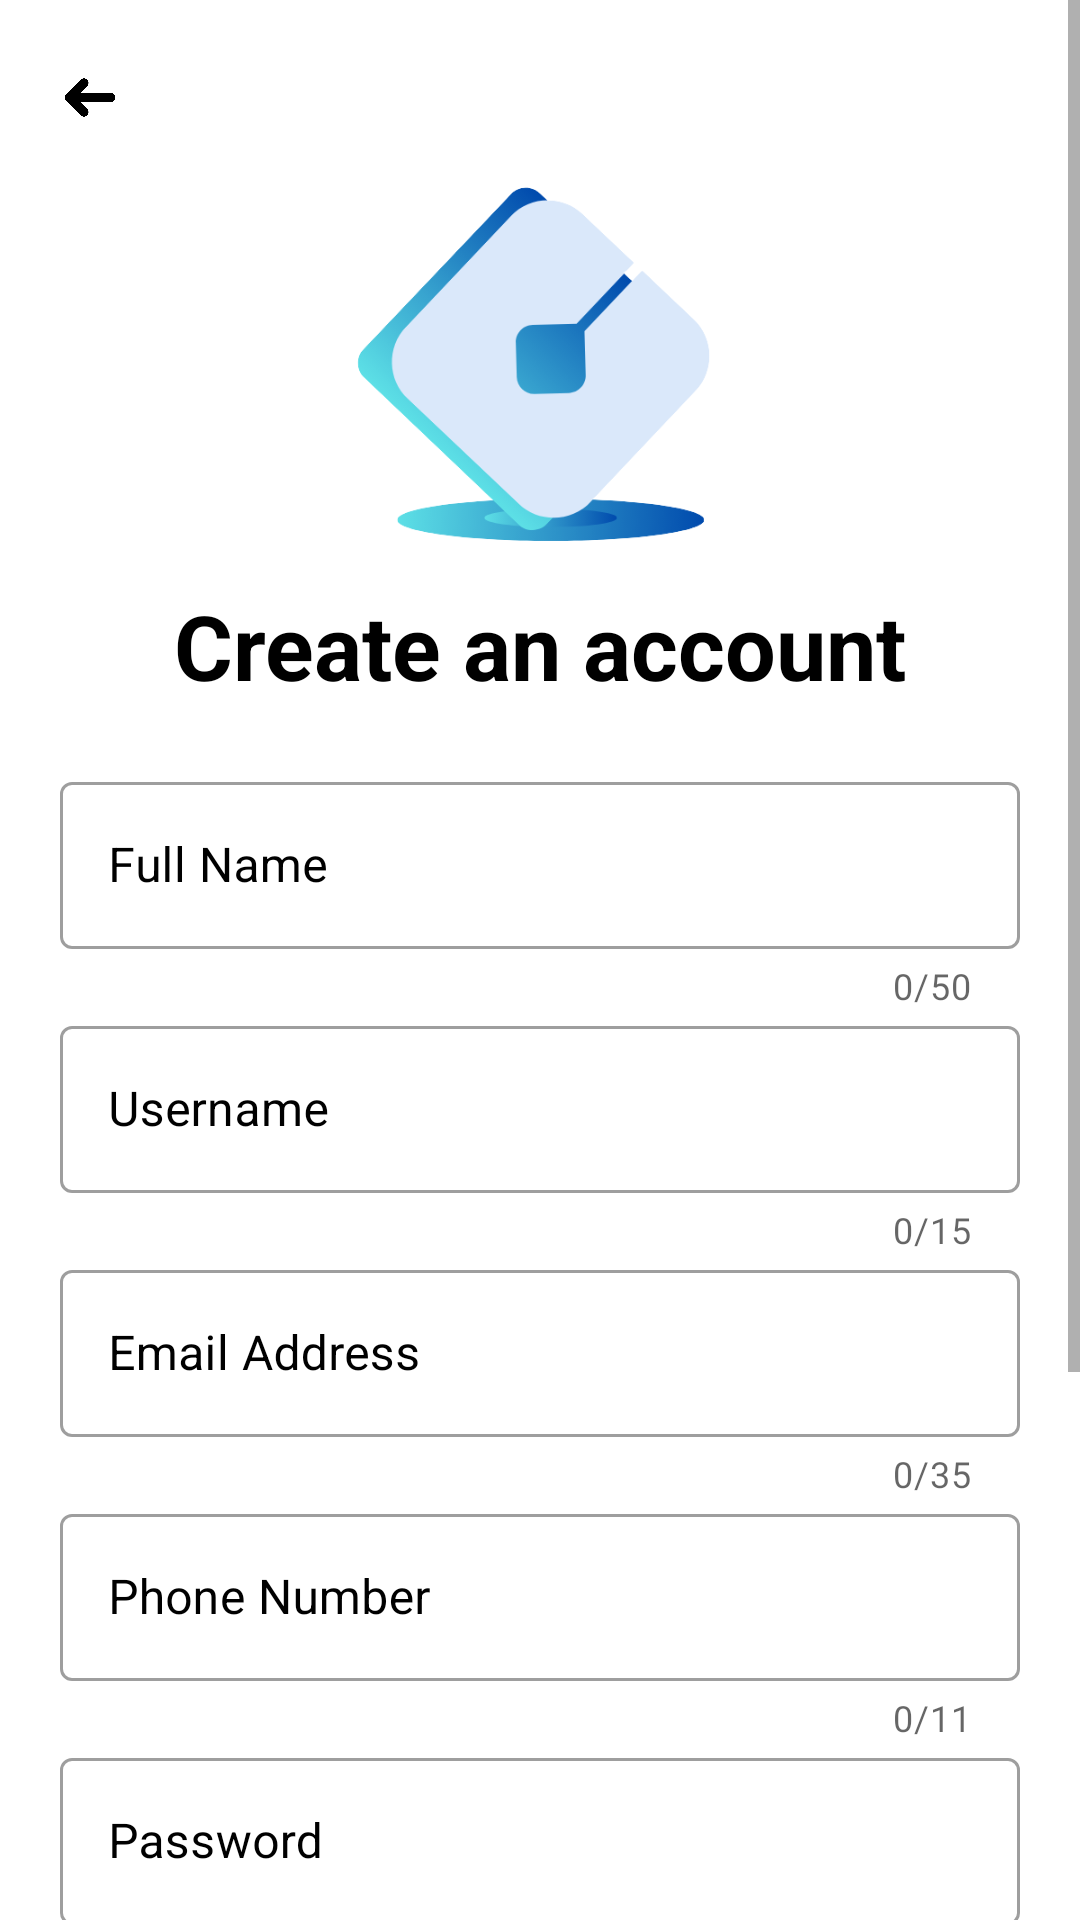

Icons on this 1080×1920 Android screen, each with its box as (x1, y1, x2, y2):
backbutton: (65, 78, 115, 117)
